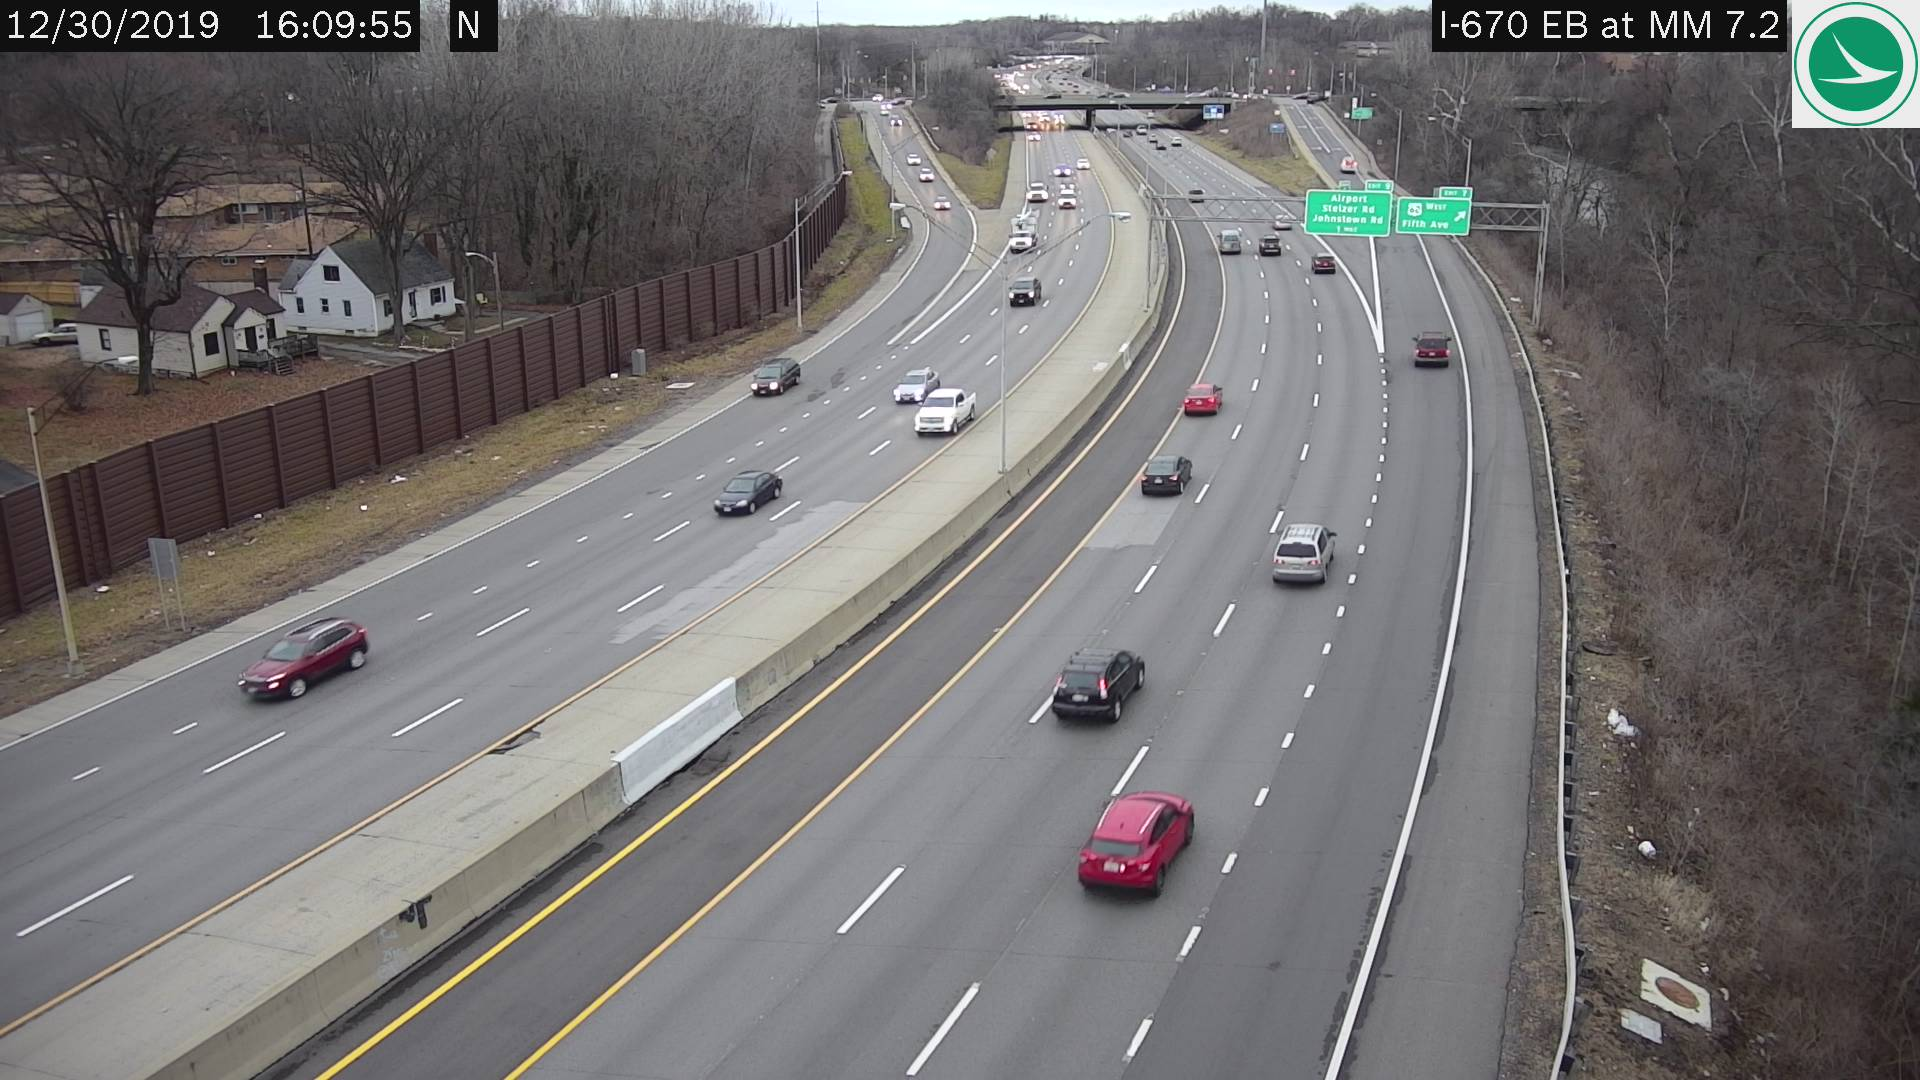car: (1073, 793, 1193, 905), (243, 616, 367, 700), (1054, 644, 1142, 724), (1271, 525, 1332, 583), (712, 468, 782, 516), (914, 384, 975, 433), (750, 356, 802, 396), (1142, 455, 1189, 495), (894, 364, 938, 400), (1183, 380, 1218, 415), (1414, 332, 1451, 364), (1011, 214, 1036, 251), (1010, 276, 1042, 305), (1309, 252, 1335, 276), (1218, 228, 1240, 256), (1259, 233, 1280, 255), (1025, 182, 1047, 202), (1058, 189, 1077, 206), (1338, 156, 1356, 171), (1273, 214, 1291, 228), (934, 194, 949, 208), (1054, 164, 1071, 174), (919, 167, 934, 179), (1077, 156, 1089, 170), (1189, 189, 1203, 200), (907, 154, 920, 164)
